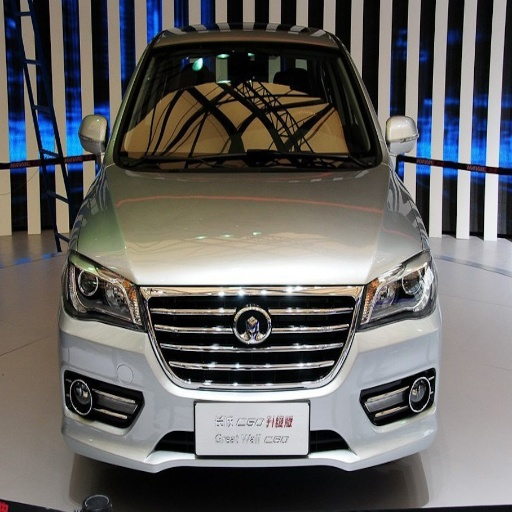front_bumper: (60, 281, 443, 472)
front_right_light: (66, 252, 142, 329)
hood: (77, 164, 424, 284)
left_mirror: (387, 116, 418, 162)
